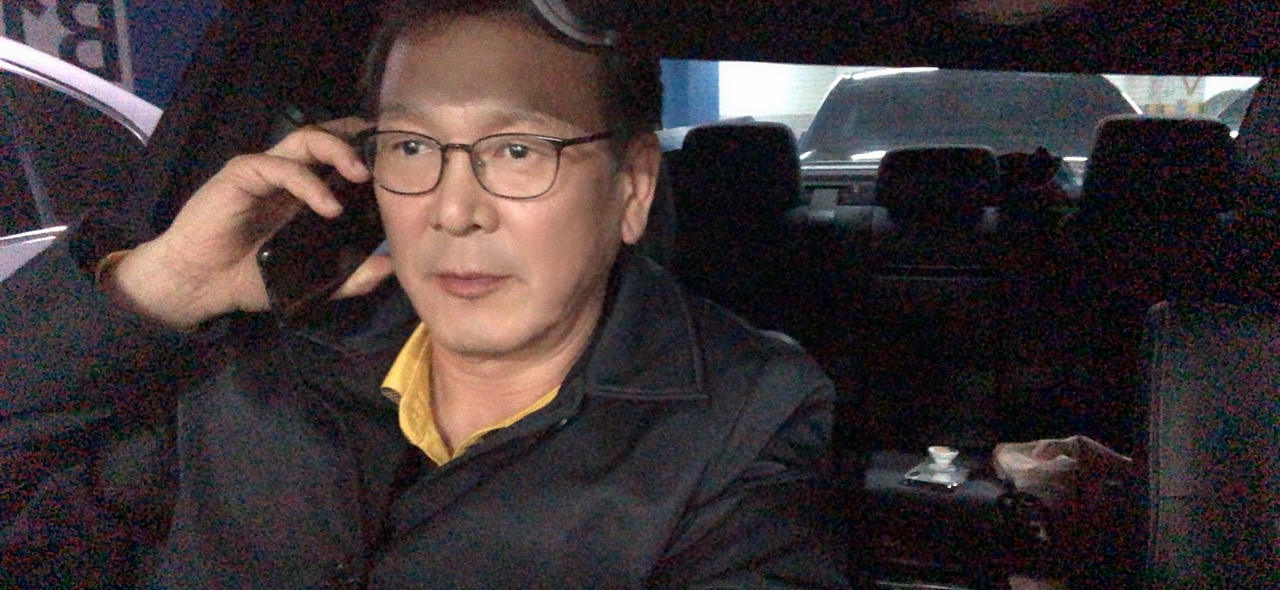phone: (3, 1, 842, 590)
